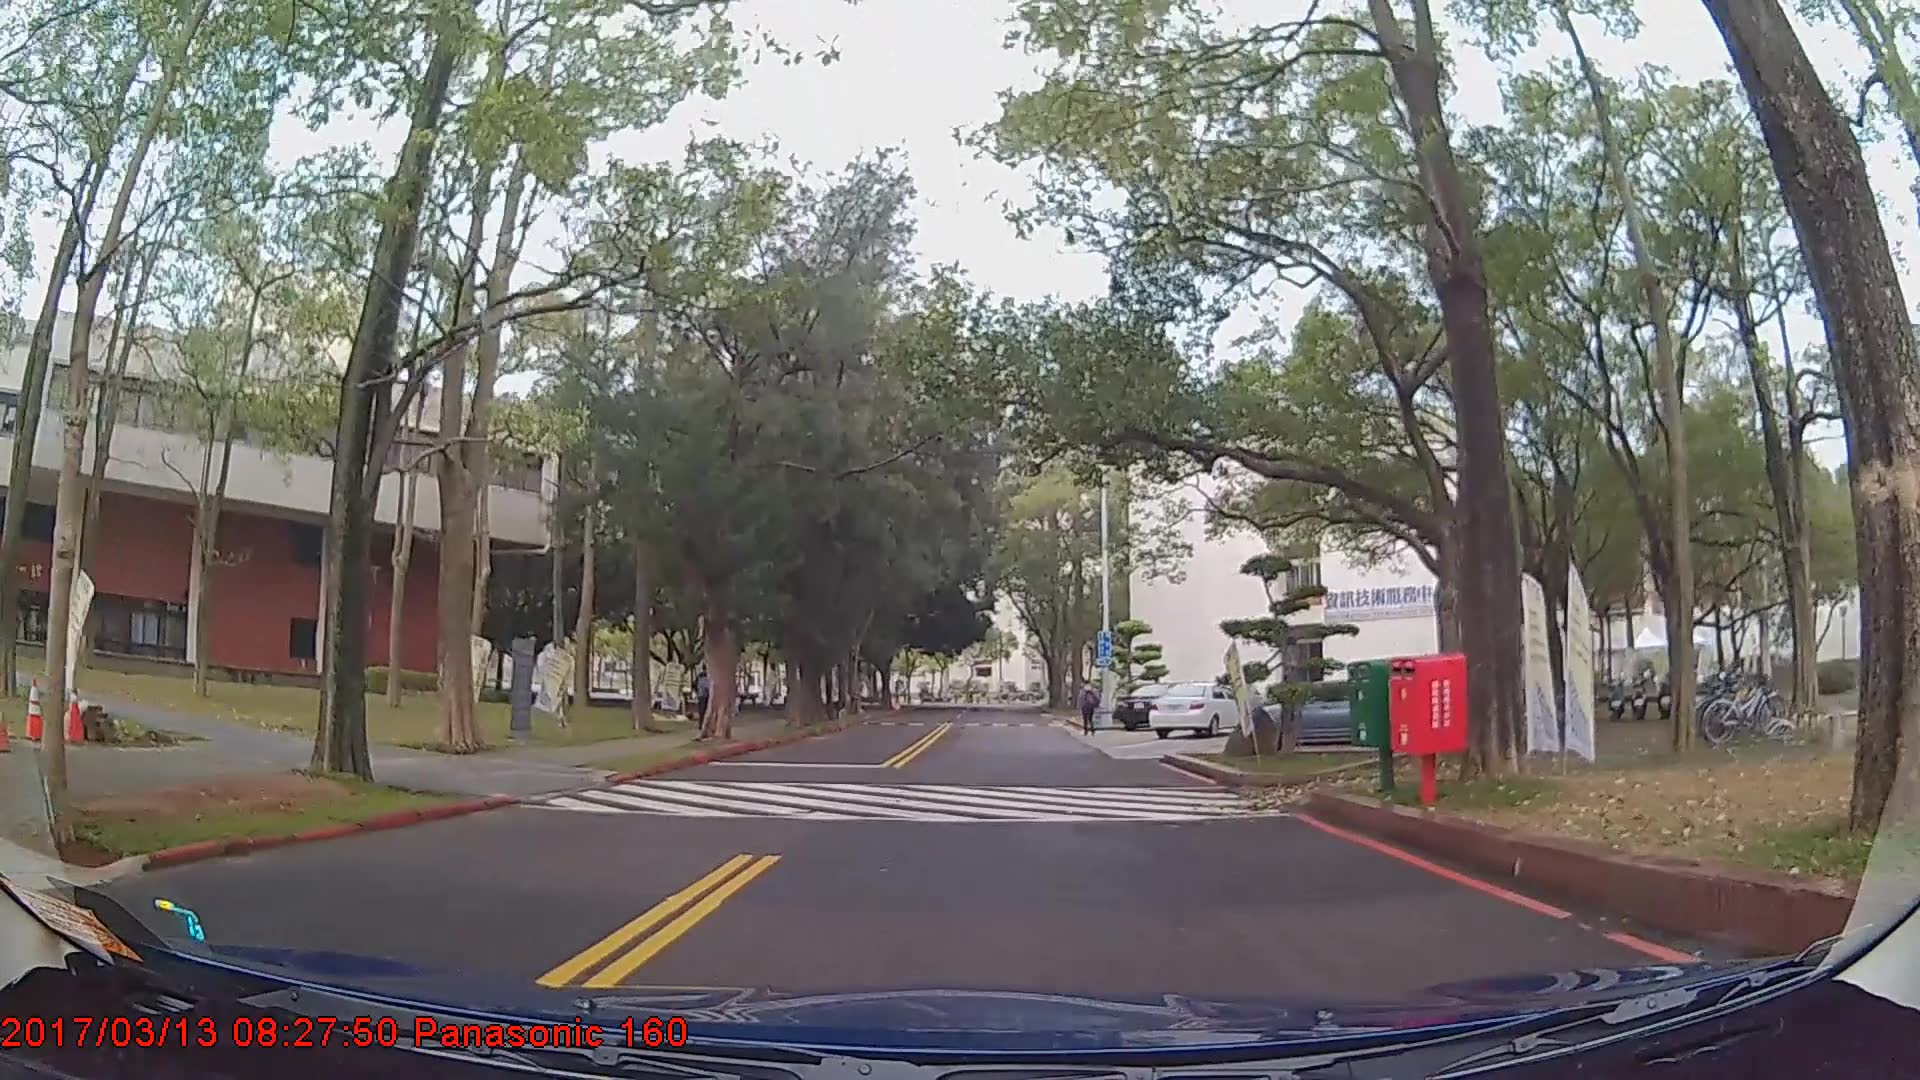pedestrian: (694, 669, 722, 741), (1077, 680, 1103, 739)
vehicle: (1153, 679, 1253, 735), (1112, 679, 1198, 730)
